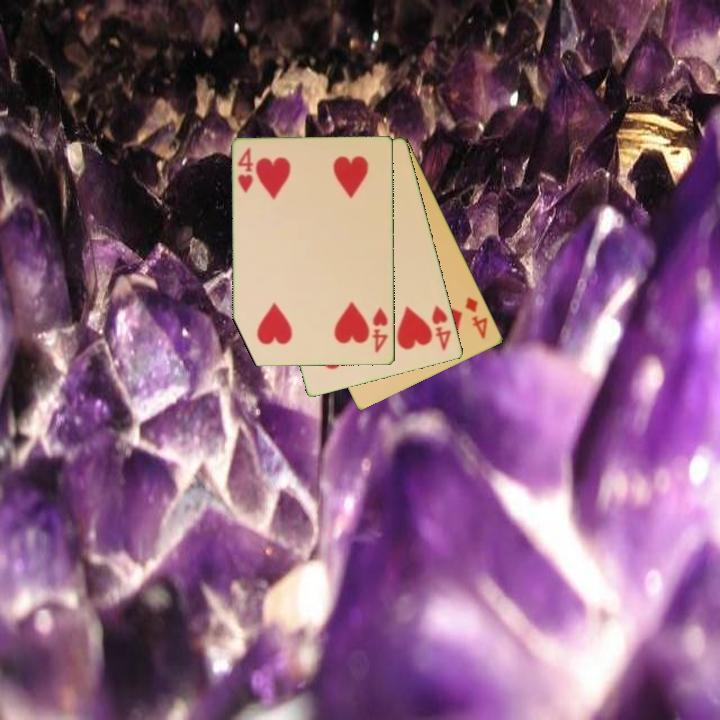4d: (462, 293, 491, 342)
4h: (428, 302, 454, 354), (369, 304, 391, 356), (235, 144, 256, 196)
